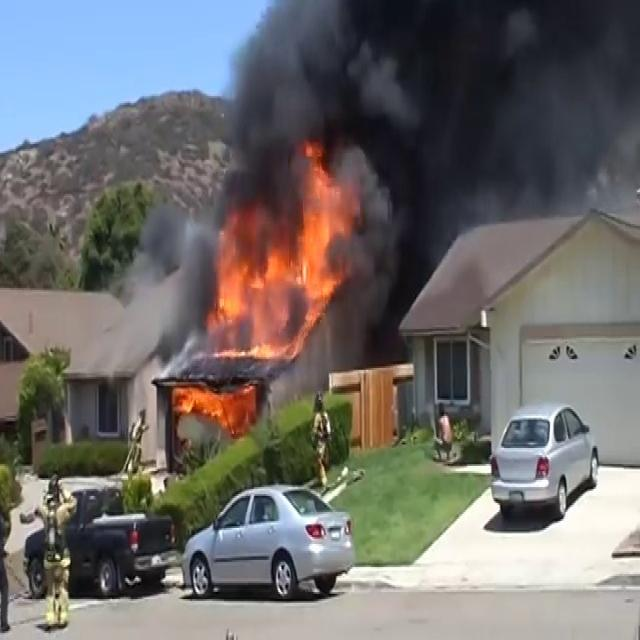Fire: (208, 162, 360, 358)
Smoke: (180, 0, 639, 268)
